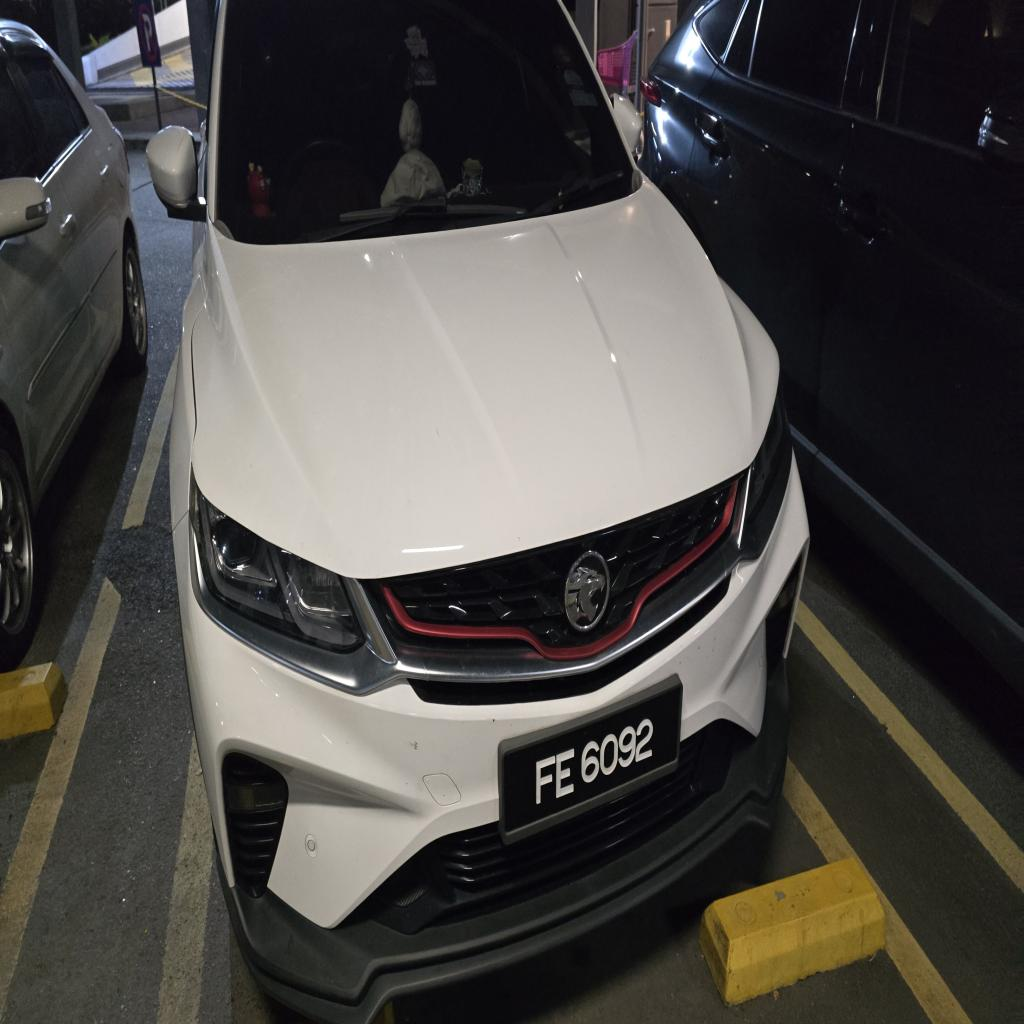car: (148, 0, 808, 1021)
car plate: (498, 677, 682, 841)
